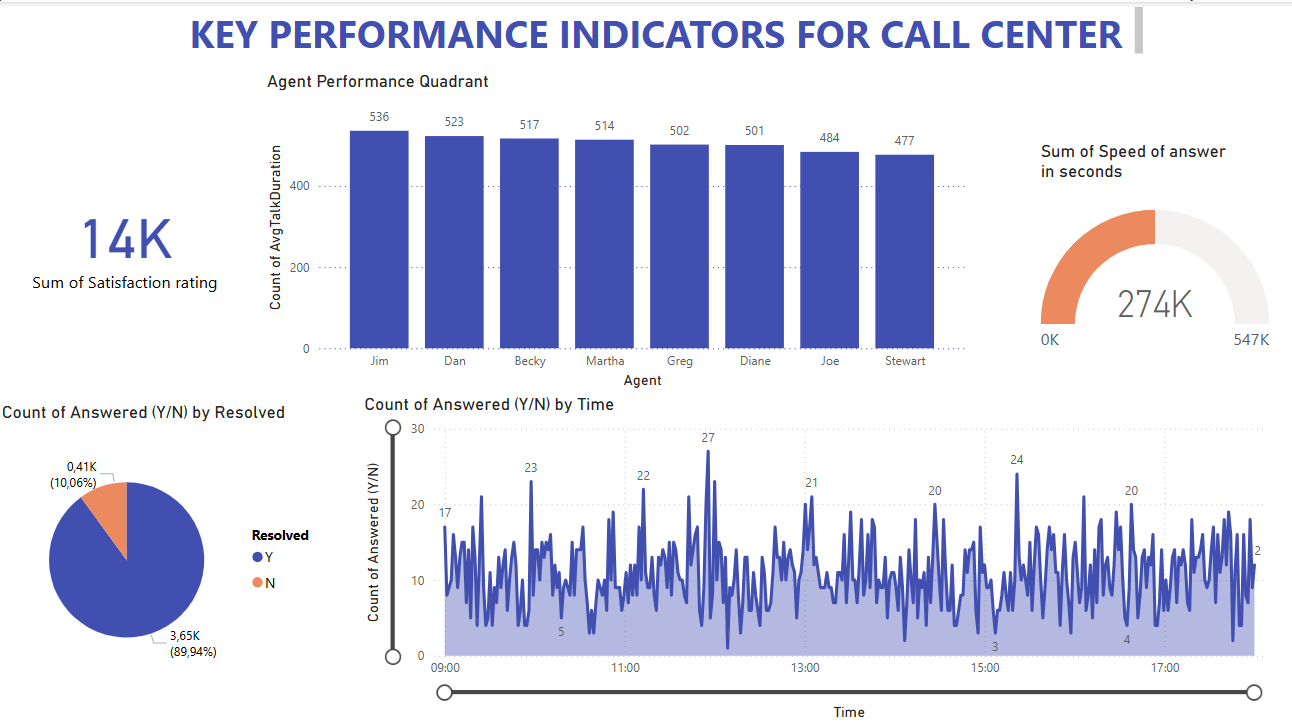

What the dashboard file says about the page in this screenshot:
{"tool":"powerbi","page":{"name":"Page 1","canvas":[1280,720],"ordinal":0},"visuals":[{"type":"columnChart","title":"Agent Performance Quadrant","fields":{"Category":["Sheet1.Agent"],"Y":["Sheet1.AvgTalkDuration"]},"box":[259.2,67.3,693.3,315.5],"z":0},{"type":"pieChart","fields":{"Y":["Sheet1.Answered (Y/N)"],"Category":["Sheet1.Resolved"]},"box":[0,391.3,328.9,288.6],"z":1000},{"type":"lineChart","fields":{"Y":["Sheet1.Answered (Y/N)"],"Category":["Sheet1.Time"]},"box":[354.6,382.7,895.1,324.1],"z":2000},{"type":"card","fields":{"Values":["Sheet1.Satisfaction rating"]},"box":[29.3,154.1,192,162.6],"z":3000},{"type":"gauge","fields":{"Y":["Sheet1.Speed of answer in seconds"]},"box":[1016.2,135.7,233.6,237.2],"z":4000},{"type":"textbox","box":[183.4,0,942.8,57.5],"z":5000}]}

Visuals, with their boxes in screenshot pixels (x1, y1, x2, y2), scaled from the page's 1280x720 canvas onto the 1292x728 screenshot:
"Agent Performance Quadrant" columnChart: {"left": 262, "top": 68, "right": 961, "bottom": 387}
pieChart - Sheet1.Answered (Y/N) x Sheet1.Resolved: {"left": 0, "top": 396, "right": 332, "bottom": 687}
lineChart - Sheet1.Answered (Y/N) x Sheet1.Time: {"left": 358, "top": 387, "right": 1261, "bottom": 715}
card - Sheet1.Satisfaction rating: {"left": 30, "top": 156, "right": 223, "bottom": 320}
gauge - Sheet1.Speed of answer in seconds: {"left": 1026, "top": 137, "right": 1262, "bottom": 377}
textbox: {"left": 185, "top": 0, "right": 1137, "bottom": 58}
